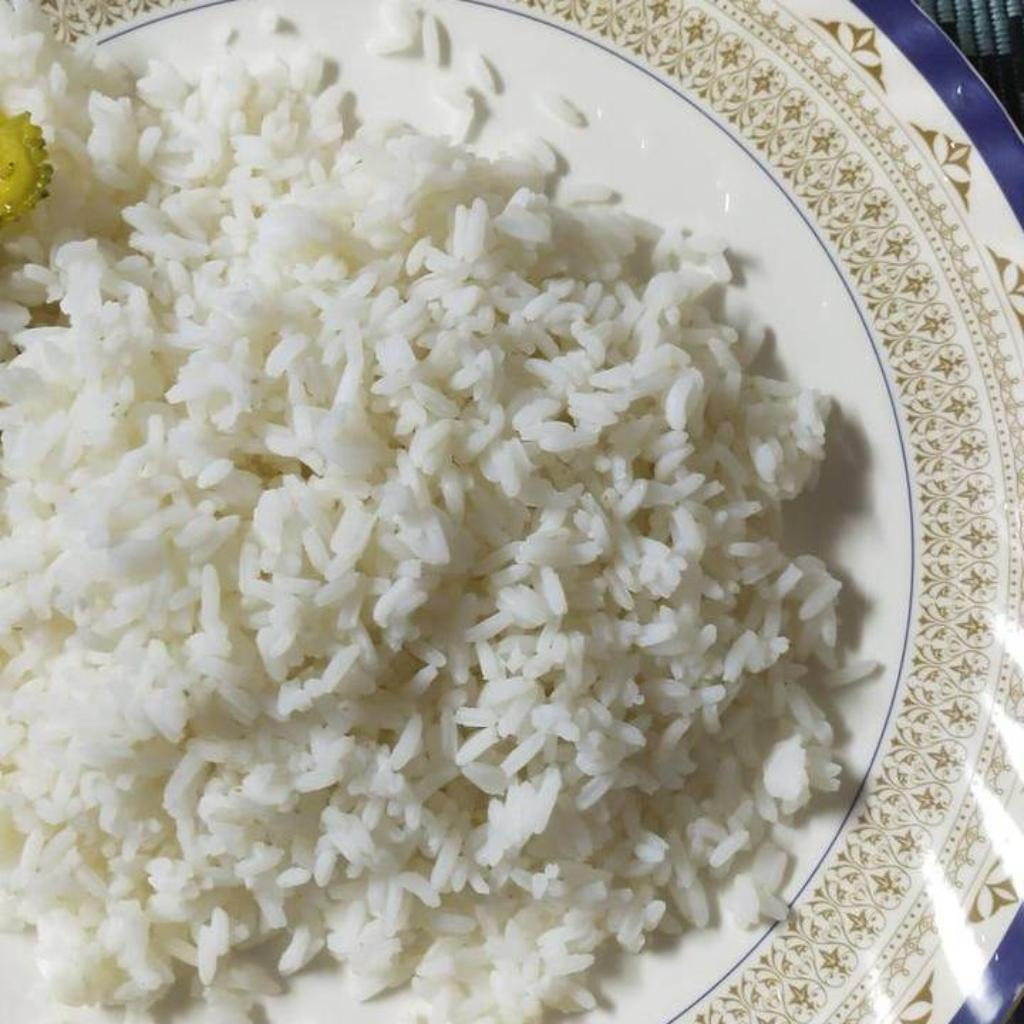rice: (0, 17, 862, 1023)
